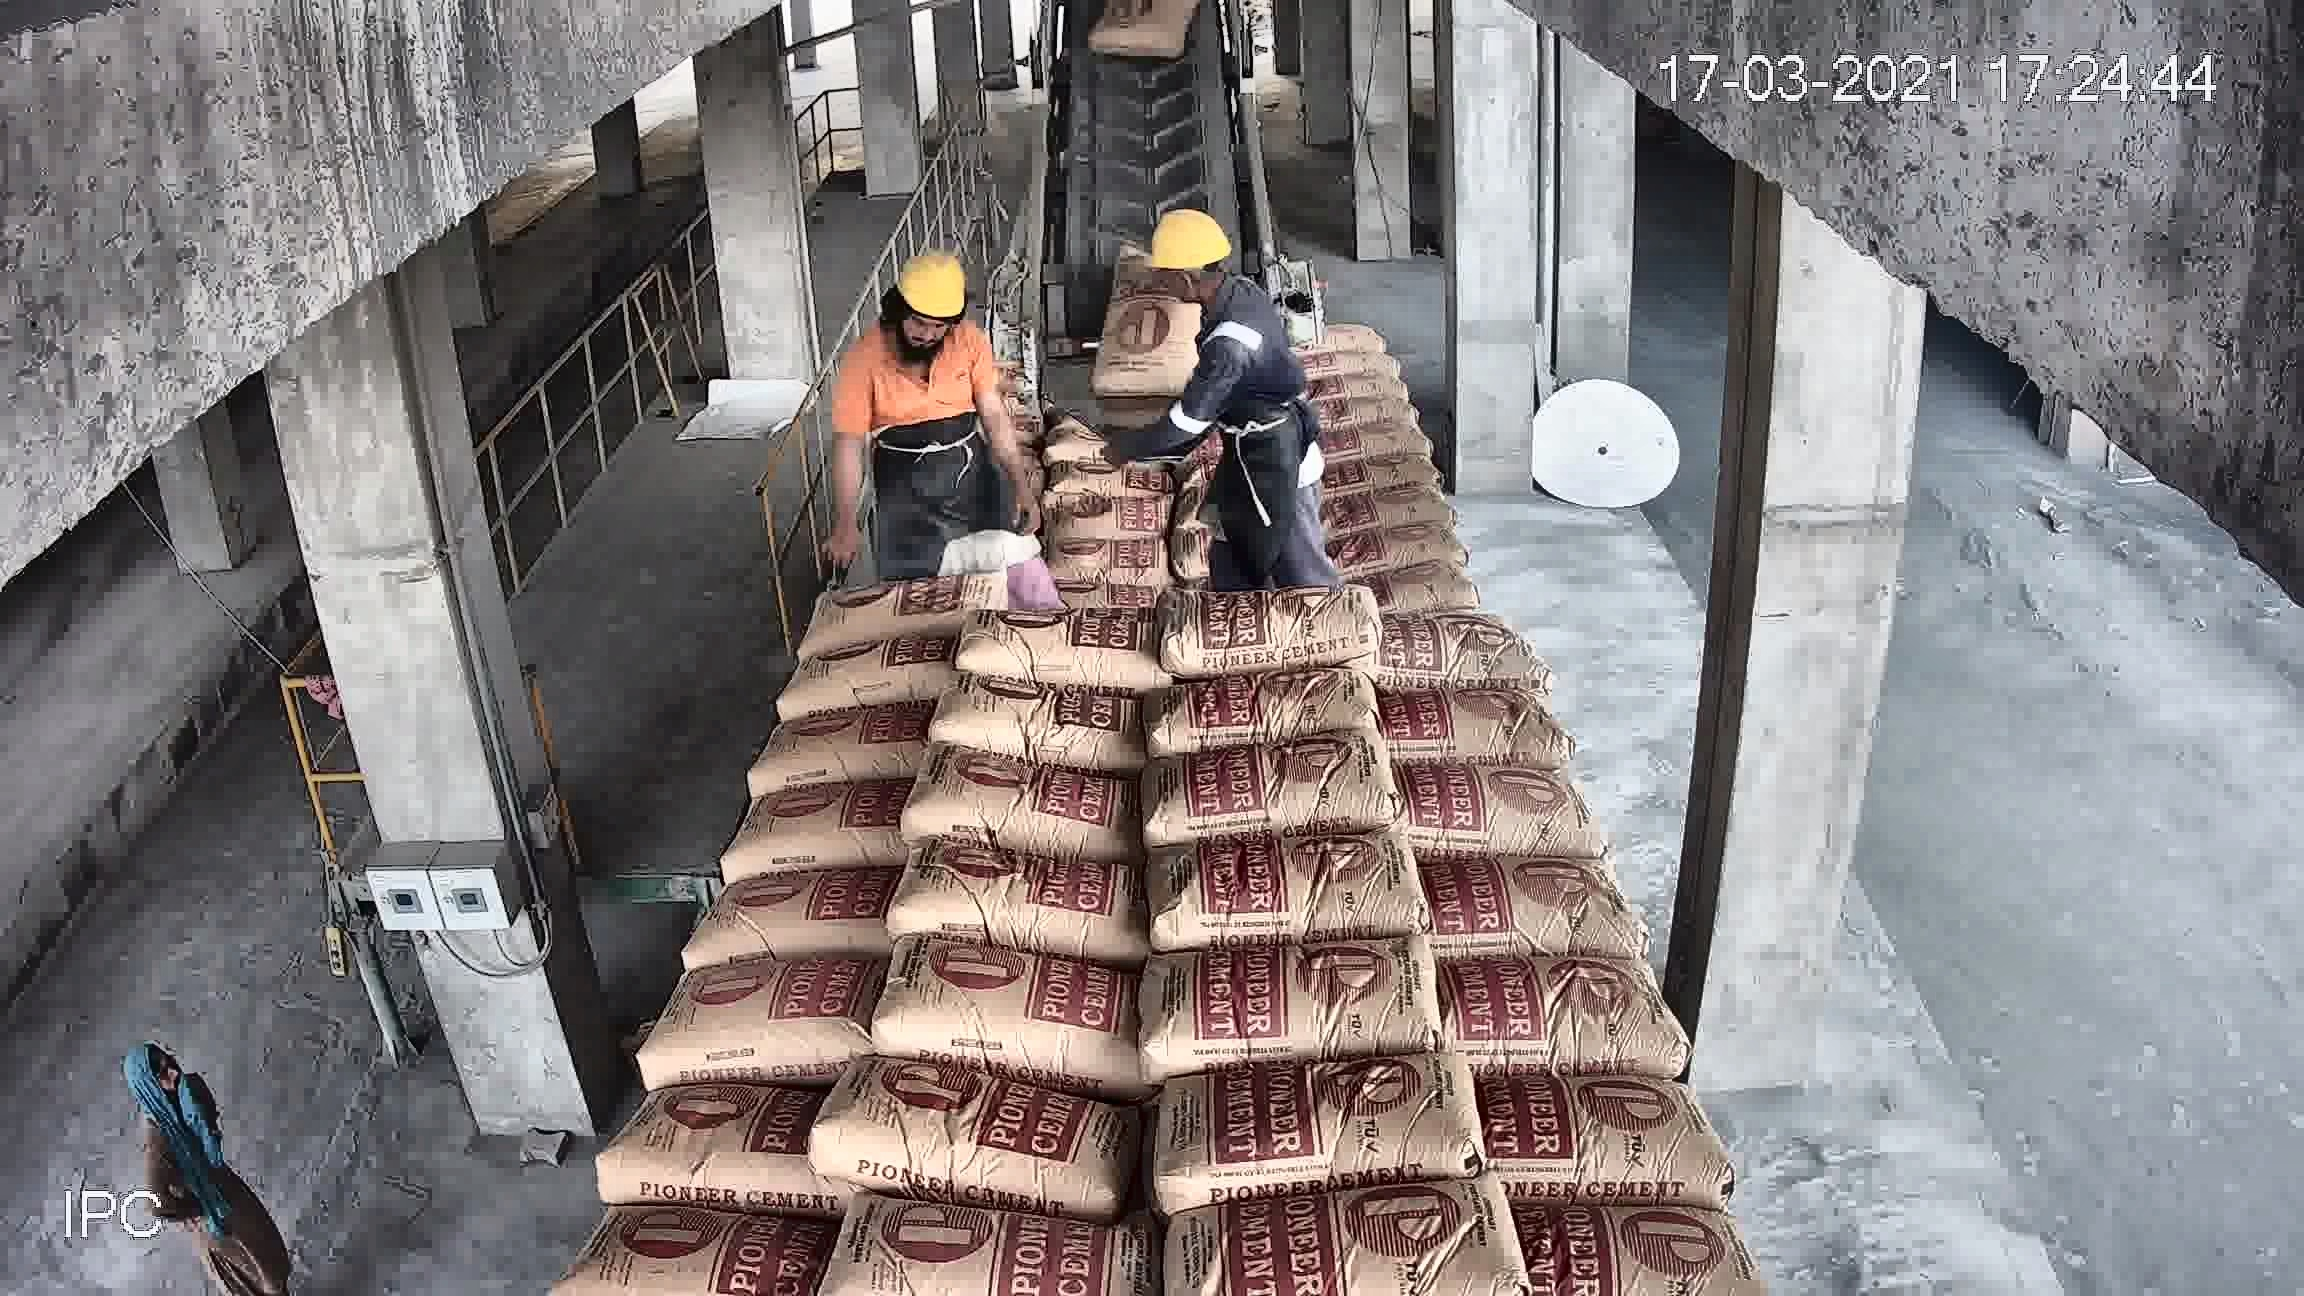bag: (1057, 2, 1260, 285)
bag_h: (1146, 1048, 1478, 1237), (1155, 930, 1453, 1097), (1128, 1180, 1533, 1296), (815, 1063, 1119, 1209), (1146, 813, 1419, 967), (855, 949, 1157, 1081), (1468, 1044, 1719, 1193), (665, 940, 880, 1097), (612, 1070, 821, 1223), (533, 1207, 843, 1293), (654, 870, 896, 980), (1160, 563, 1385, 680), (1139, 722, 1362, 836), (831, 1215, 1158, 1293), (873, 842, 1149, 934), (1525, 1190, 1761, 1293), (889, 767, 1147, 858), (930, 663, 1165, 760), (1131, 514, 1355, 612), (1155, 669, 1372, 769), (1453, 964, 1666, 1063), (1389, 745, 1600, 843), (1361, 676, 1579, 767), (1396, 851, 1627, 930), (722, 782, 904, 877), (1364, 609, 1554, 696), (752, 698, 916, 794), (957, 612, 1177, 680), (807, 567, 976, 650), (791, 627, 951, 715), (1139, 472, 1336, 541), (991, 508, 1135, 597), (1364, 560, 1533, 631), (1182, 400, 1328, 476), (965, 567, 1139, 628), (1343, 411, 1483, 483), (1355, 462, 1497, 530), (804, 536, 956, 598), (847, 440, 983, 506), (1364, 513, 1513, 570), (837, 486, 961, 551), (991, 486, 1152, 533), (1008, 424, 1149, 478), (1138, 460, 1326, 495), (937, 396, 1052, 438), (949, 362, 1041, 408), (1190, 313, 1242, 361), (964, 337, 1032, 367)
